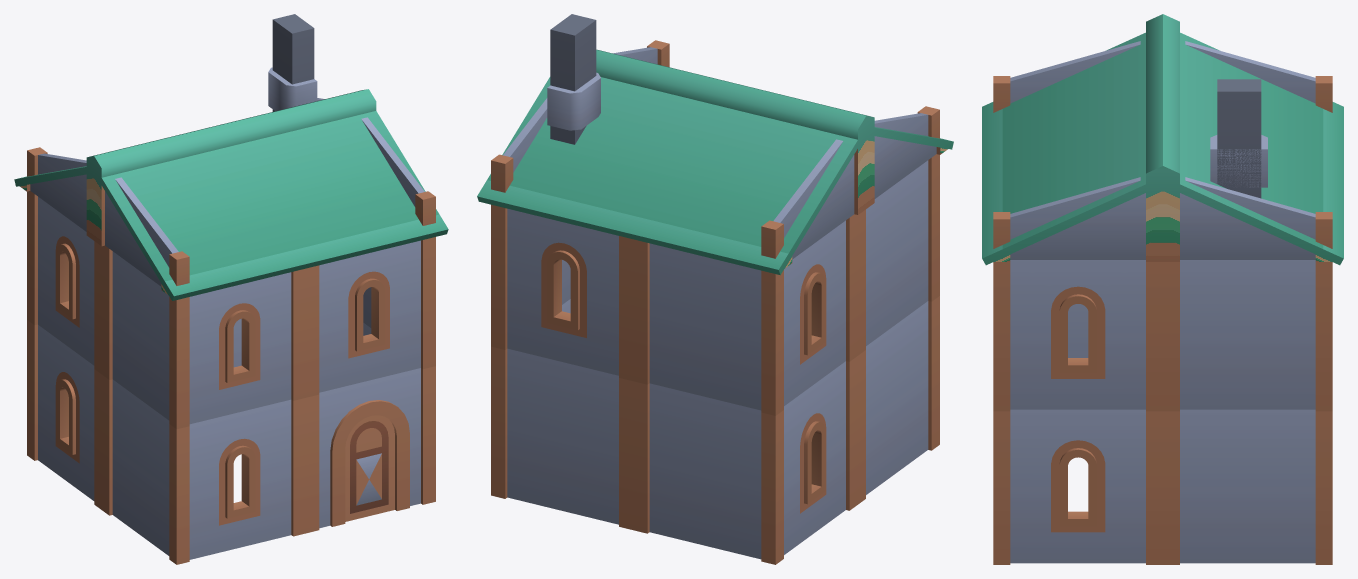
Rendered from maison-atlante-2.glb.
3 views of the same model, side by side, from view 1: azimuth 30°, elevation 25°; view 2: azimuth 150°, elevation 25°; view 3: azimuth 270°, elevation 25° (orthographic). The views are drawn at different scales.
Visible parts, largest first — view 1: wall-window-round; view 2: wall-window-round; view 3: wall-window-round.
Part boxes in pixels (box(x1,y1,x2,y2)): wall-window-round: box(14, 14, 448, 564); wall-window-round: box(477, 14, 953, 564); wall-window-round: box(982, 14, 1343, 564).
Size of the model in its own units: 6.36 by 9 by 6.4.
Materials: 1 (1 with a texture image).
